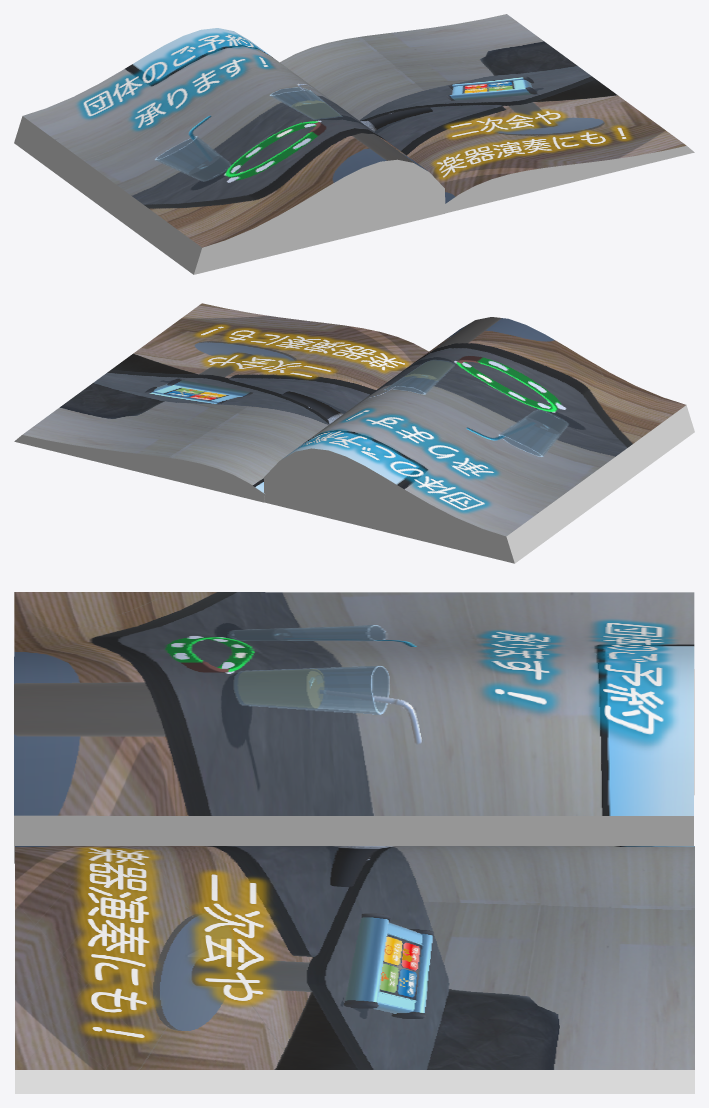
File: Book2.fbx
The picture shows the model from 3 angles, top to bottom: view 1: azimuth 30°, elevation 25°; view 2: azimuth 150°, elevation 25°; view 3: azimuth 270°, elevation 25°; orthographic projection. The views are drawn at different scales.
Visible parts, largest first — view 1: ベジエカーブ.002, ベジエカーブ.003; view 2: ベジエカーブ.002, ベジエカーブ.003; view 3: ベジエカーブ.002, ベジエカーブ.003.
Part boxes in pixels (x1=…): ベジエカーブ.002: x1=14, y1=28, x2=445, y2=274; ベジエカーブ.003: x1=280, y1=14, x2=694, y2=213; ベジエカーブ.002: x1=263, y1=317, x2=694, y2=563; ベジエカーブ.003: x1=14, y1=303, x2=428, y2=502; ベジエカーブ.002: x1=14, y1=592, x2=694, y2=863; ベジエカーブ.003: x1=15, y1=846, x2=694, y2=1093.
Size of the model in its own units: 1.53 by 0.1972 by 0.9499.
3 materials, 2 textured.
